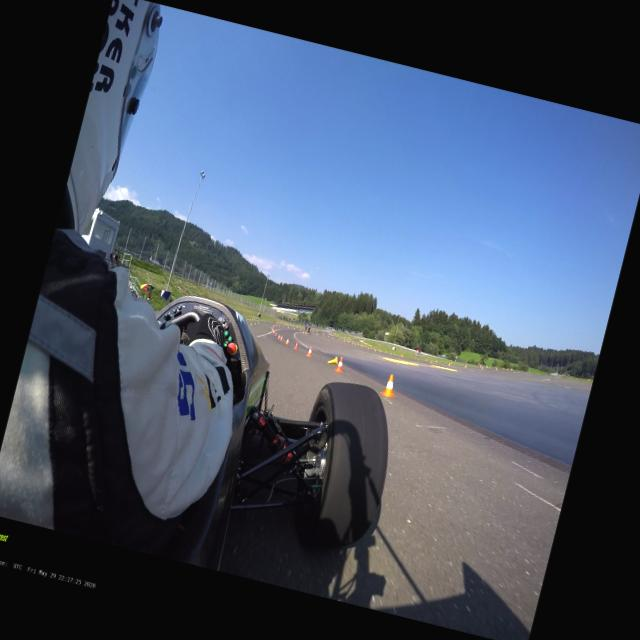orange_cone: (380, 373, 400, 398), (334, 356, 347, 372), (305, 346, 313, 356), (293, 341, 299, 349), (285, 337, 289, 344), (279, 335, 283, 340), (276, 334, 280, 338), (274, 332, 276, 335)
yellow_cone: (326, 354, 340, 366)
